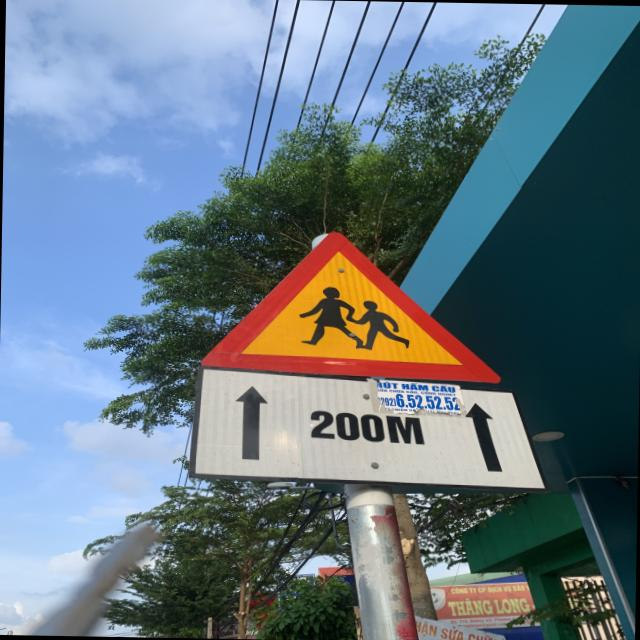Vong_Xuyen: (202, 228, 503, 384)
